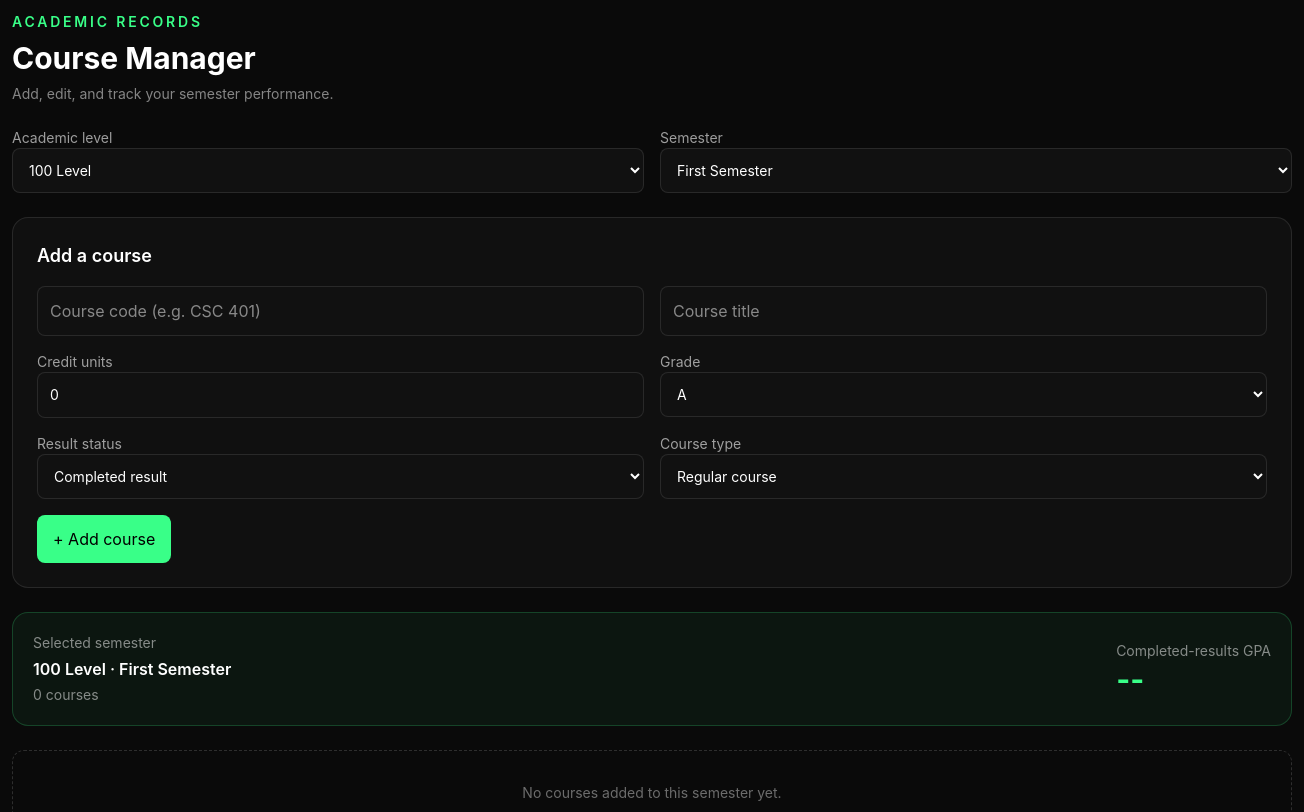
Test: CourseManager › switches academic level and resets the form
Type "CSC 401" into the field with placeholder "Course code (e.g. CSC 401)" at (340,311), box x1=37 y1=286 x2=644 y2=336
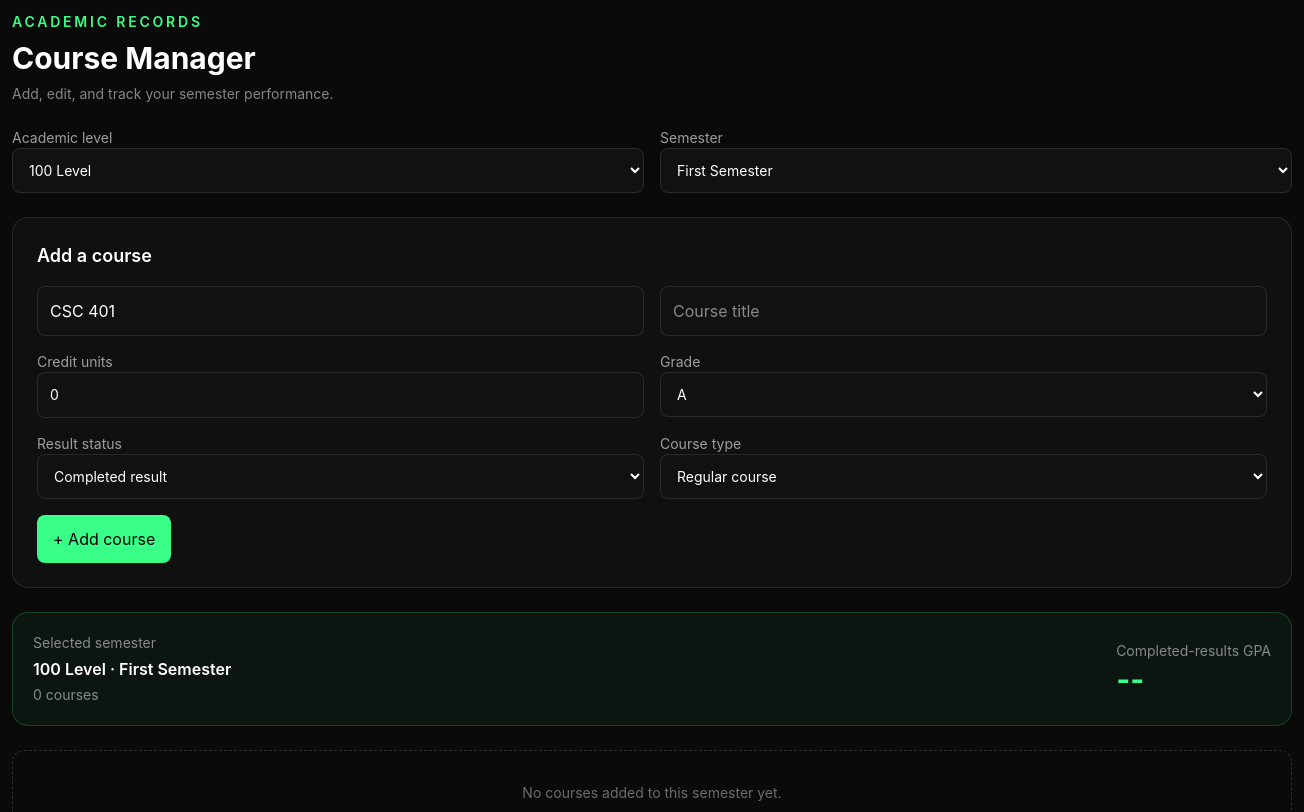
Type "Software Engineering" into the field with placeholder "Course title" at (964,311), box x1=660 y1=286 x2=1267 y2=336
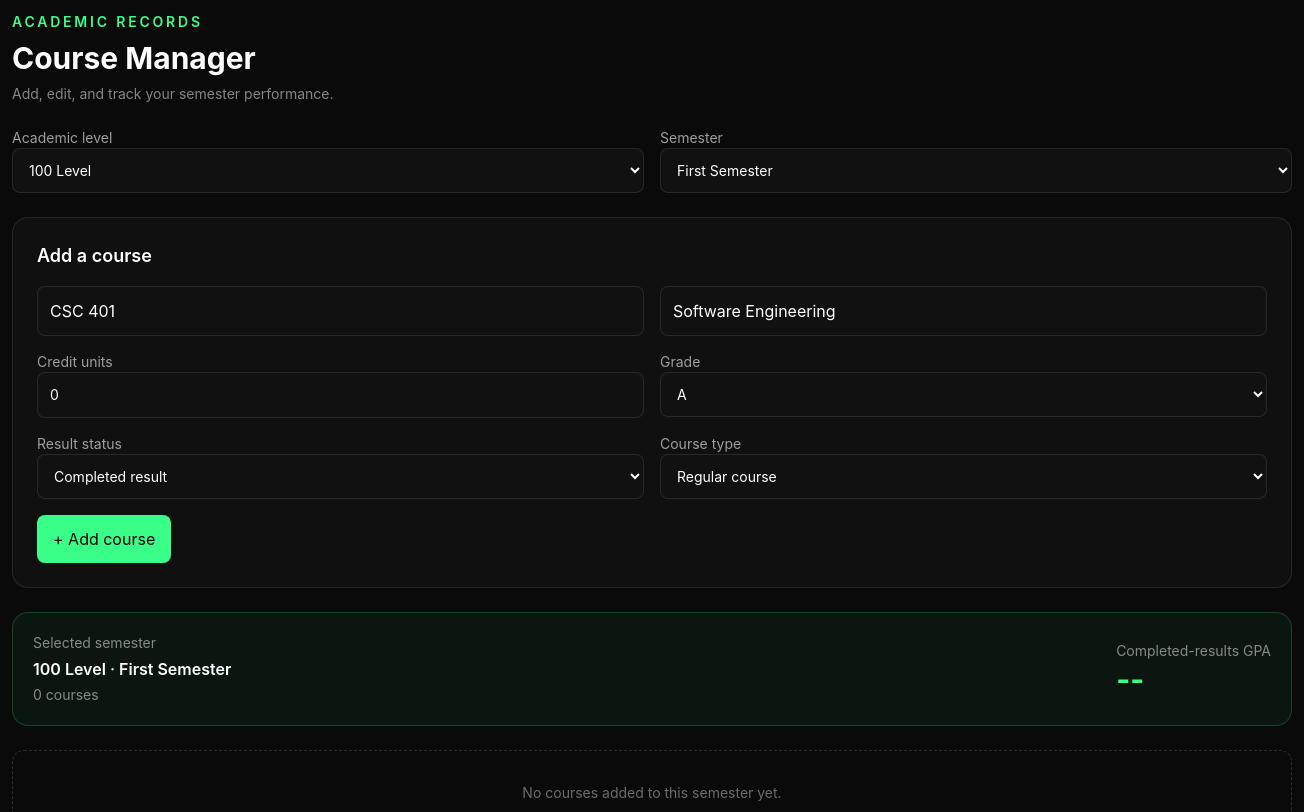
Replace the text in the number field labelled "Credit units" with "3" at (340,395), box x1=37 y1=372 x2=644 y2=418
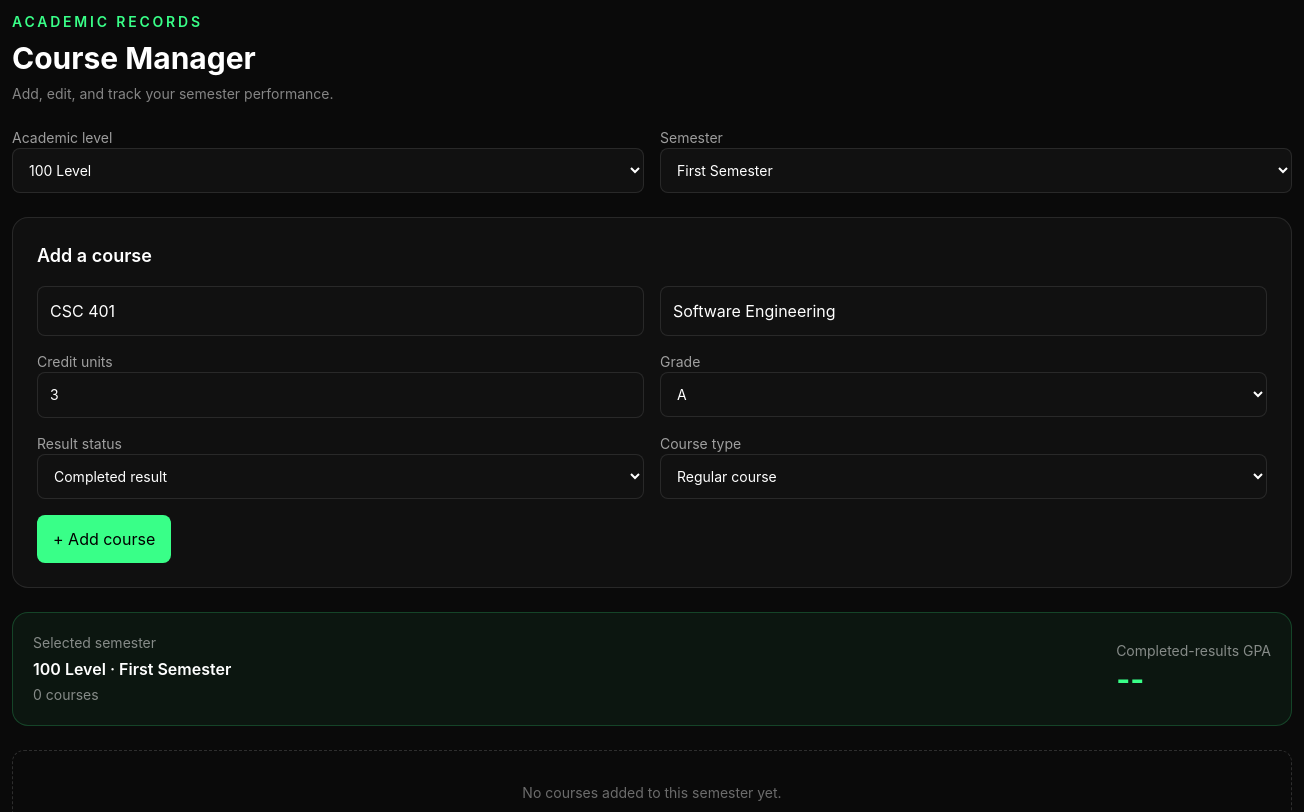
Select "A" in the dropdown labelled "Grade" at (964,394), box x1=660 y1=372 x2=1267 y2=417
Select "Completed result" in the dropdown labelled "Result status" at (340,476), box x1=37 y1=454 x2=644 y2=499
Select "Regular course" in the dropdown labelled "Course type" at (964,476), box x1=660 y1=454 x2=1267 y2=499
Select "200 Level" in the dropdown labelled "Academic level" at (328,170), box x1=12 y1=148 x2=644 y2=193
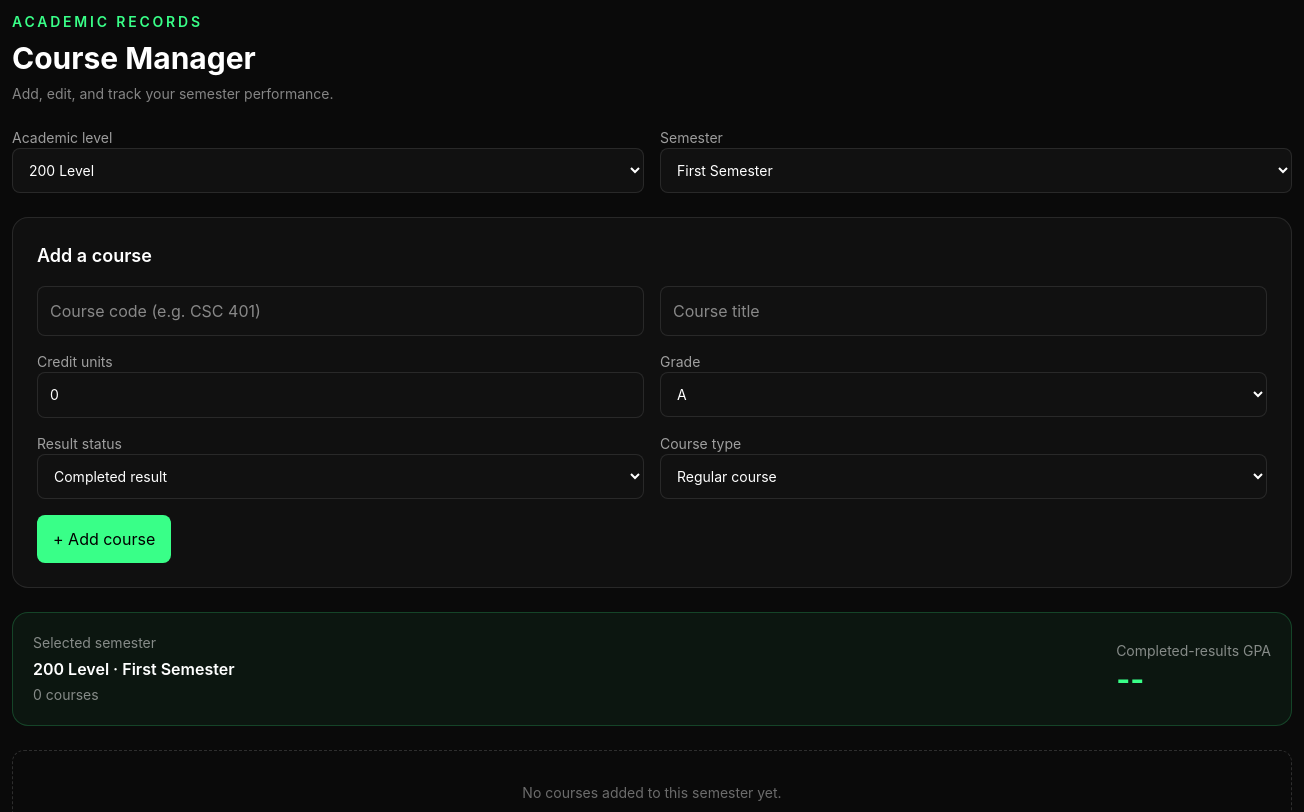
Now the field with placeholder "Course code (e.g. CSC 401)" is empty, box x1=37 y1=286 x2=644 y2=336
Now the heading "200 Level · First Semester" is shown, box x1=33 y1=657 x2=234 y2=681
